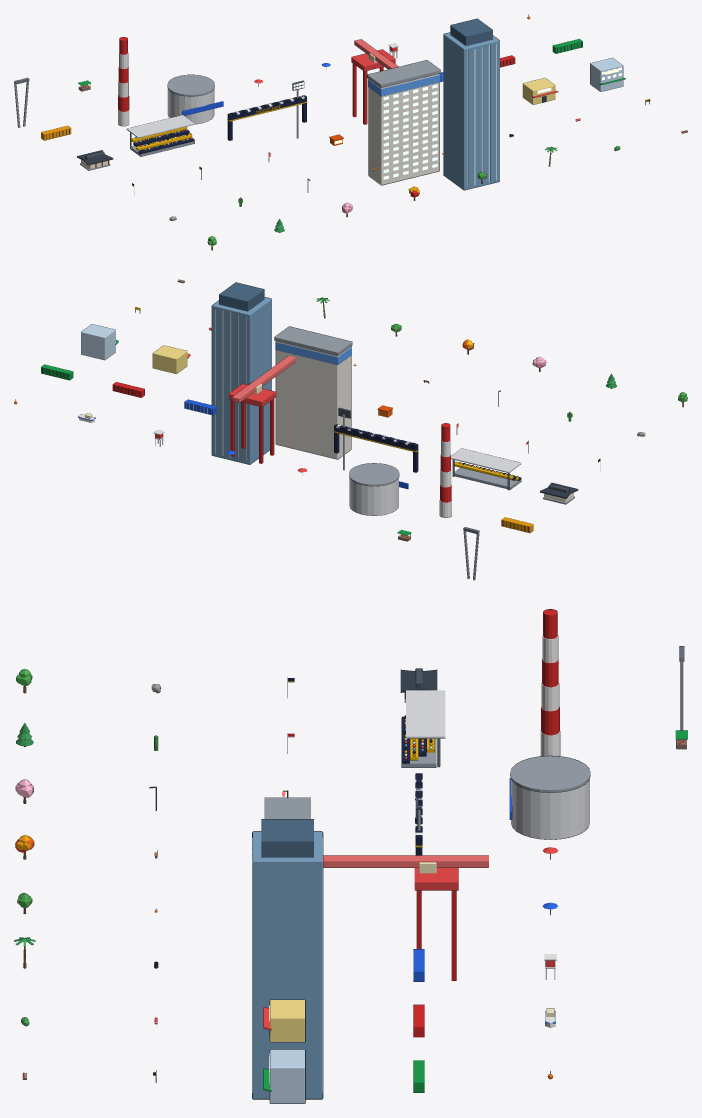
Rendered from props.glb.
3 renders of one model, top to bottom at view 1: azimuth 30°, elevation 25°; view 2: azimuth 150°, elevation 25°; view 3: azimuth 270°, elevation 25°, orthographic. The views are drawn at different scales.
Visible parts, largest first — view 1: prop_office, prop_apartment, prop_tank, prop_stand, prop_crane, prop_shop2, prop_chimney, prop_gantry, prop_shop, prop_hanok; view 2: prop_office, prop_apartment, prop_tank, prop_crane, prop_stand, prop_shop2, prop_chimney, prop_gantry, prop_shop, prop_hanok; view 3: prop_office, prop_tank, prop_crane, prop_stand, prop_chimney, prop_shop2, prop_shop, prop_apartment, prop_hanok.
Boxes of the visible parts, x1,y1,x2,y2 form: prop_office: (443, 18, 499, 190); prop_apartment: (367, 60, 440, 185); prop_tank: (167, 74, 223, 124); prop_stand: (126, 115, 194, 156); prop_crane: (351, 39, 398, 124); prop_shop2: (590, 57, 625, 91); prop_chimney: (118, 37, 129, 126); prop_gantry: (227, 95, 307, 140); prop_shop: (522, 78, 558, 104); prop_hanok: (77, 150, 113, 170); prop_office: (211, 282, 271, 464); prop_apartment: (274, 326, 352, 459); prop_tank: (349, 463, 408, 515); prop_crane: (228, 355, 295, 463); prop_stand: (451, 448, 521, 490); prop_shop2: (81, 324, 118, 360); prop_chimney: (439, 423, 451, 517); prop_gantry: (333, 424, 418, 472); prop_shop: (152, 345, 190, 373); prop_hanok: (540, 482, 578, 504); prop_office: (252, 819, 323, 1099); prop_tank: (509, 755, 590, 839); prop_crane: (323, 855, 488, 980); prop_stand: (401, 690, 445, 767); prop_chimney: (540, 609, 560, 756); prop_shop2: (263, 1049, 305, 1103); prop_shop: (263, 999, 305, 1042); prop_apartment: (264, 797, 310, 818); prop_hanok: (400, 668, 437, 702).
Bounding box in the file's own units: 222 × 64.23 × 154.
